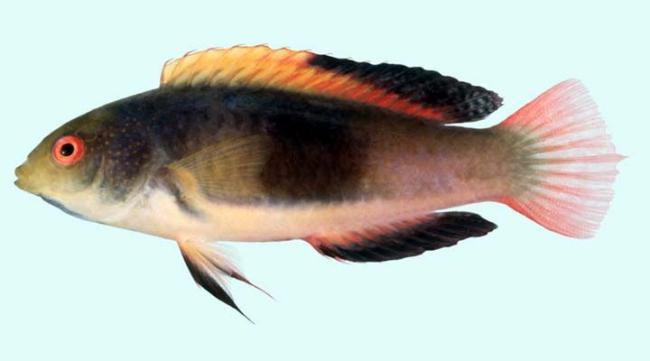fish: (14, 44, 629, 327)
